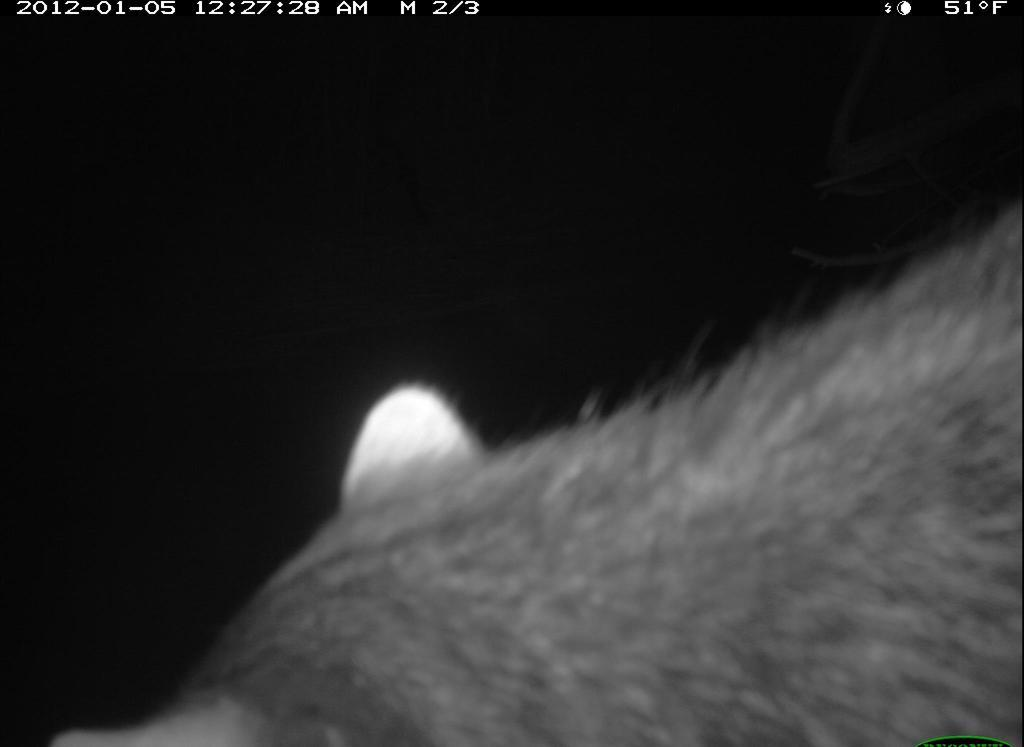raccoon: (54, 191, 1017, 747)
